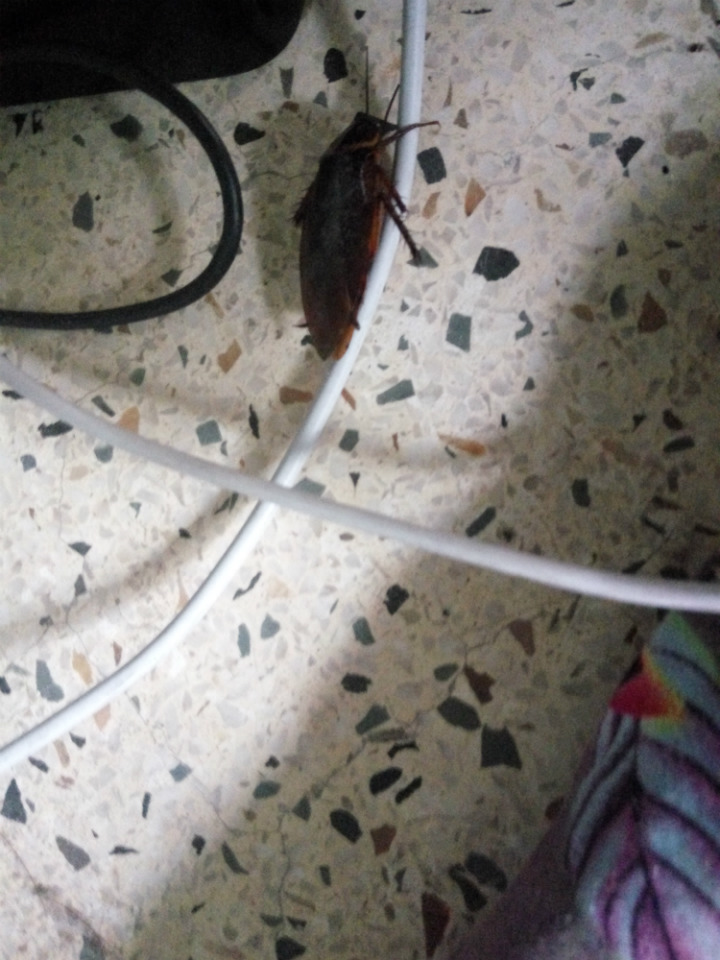cockroach: (275, 78, 481, 385)
